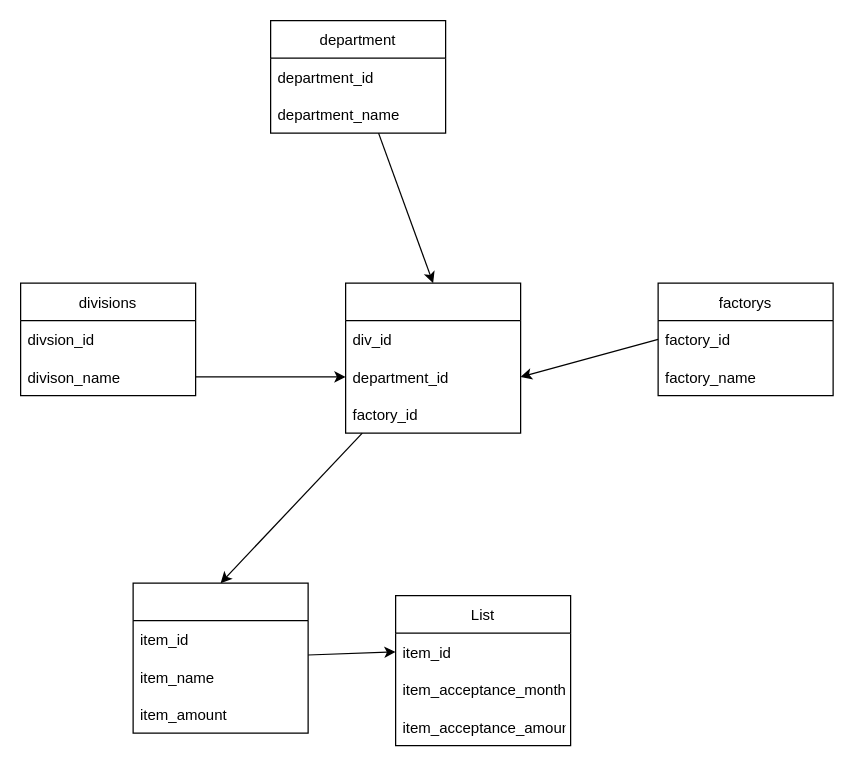
Some shapes in this 854 by 766 pixel diagram are drawn without their labels. Here are the shapes that lost their labels. From the top down, the box of each, then its label:
(344, 282, 521, 433): div_factory
(132, 582, 308, 733): investmentitems
